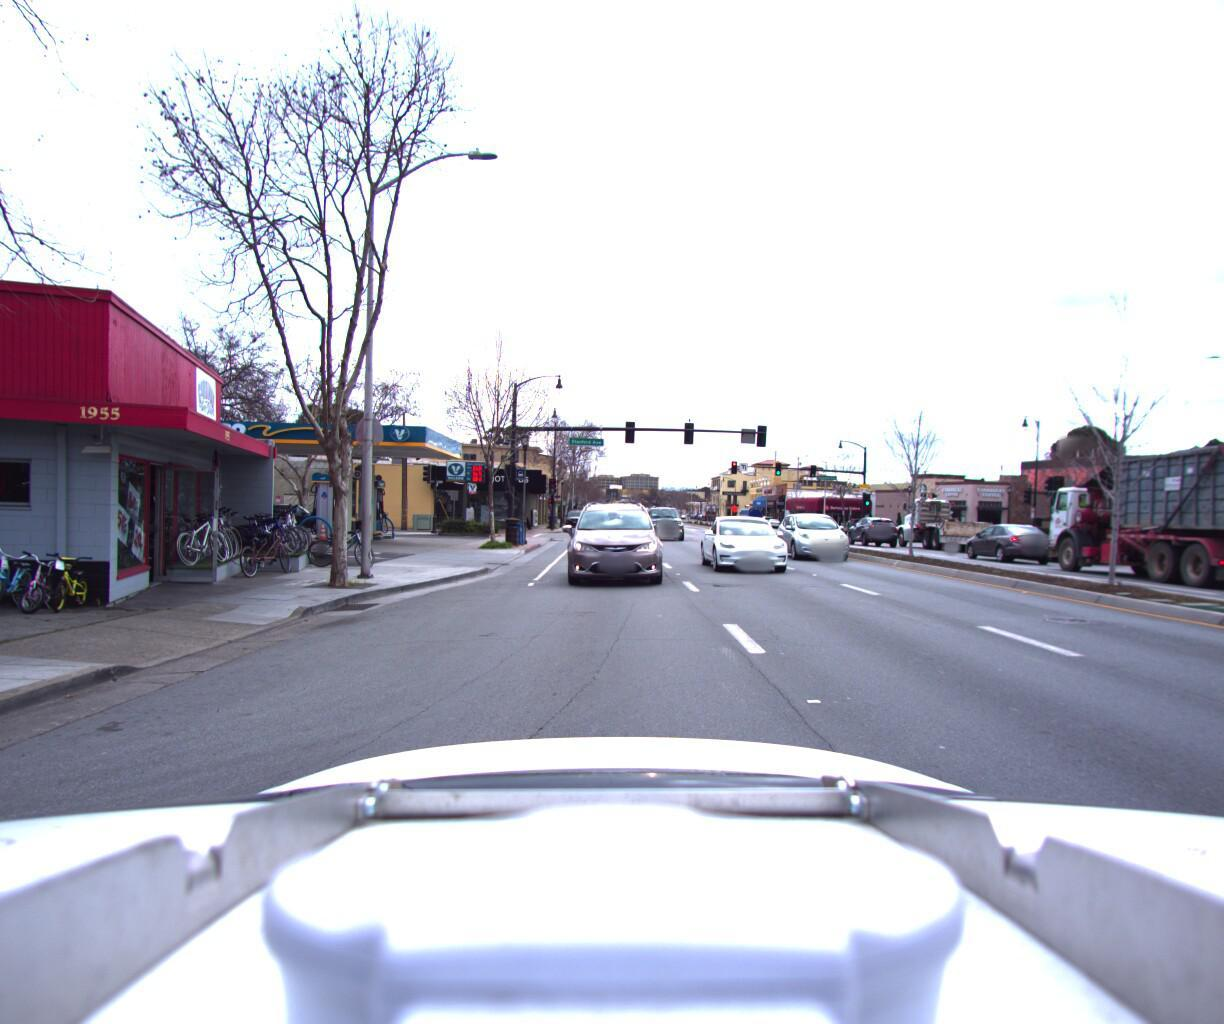bicycle: (0, 544, 66, 619), (164, 506, 234, 566), (33, 550, 95, 617), (175, 506, 242, 563), (228, 503, 304, 552), (236, 499, 308, 550), (230, 503, 305, 551), (178, 506, 242, 561), (232, 503, 305, 551), (239, 501, 310, 548), (308, 520, 379, 566), (0, 536, 40, 618), (238, 503, 309, 549), (184, 506, 245, 559), (309, 518, 379, 563), (239, 521, 296, 575), (0, 527, 14, 618)
car: (557, 490, 662, 591), (1137, 493, 1224, 592), (703, 511, 808, 579), (961, 517, 1066, 563), (782, 508, 869, 564), (844, 513, 903, 544), (645, 502, 689, 542), (566, 505, 586, 524)
truck: (1027, 424, 1224, 599), (884, 486, 1140, 568)
